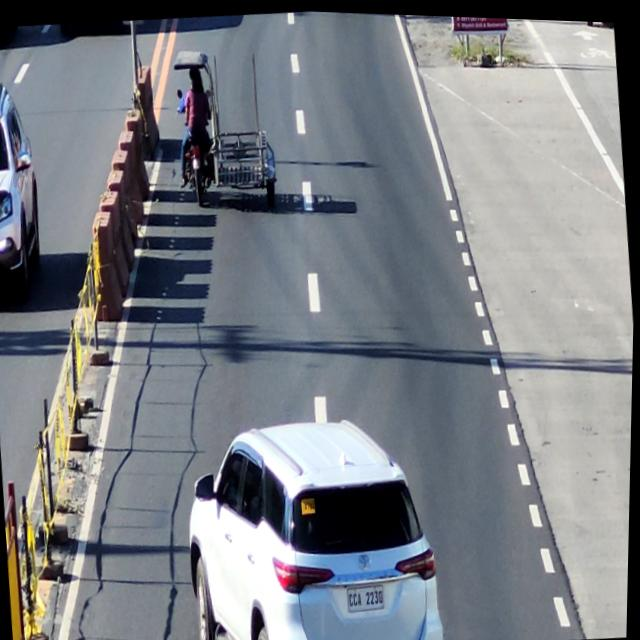Car: (177, 397, 450, 640)
License-Plate: (343, 576, 390, 613)
Tricycle: (167, 40, 282, 205)
